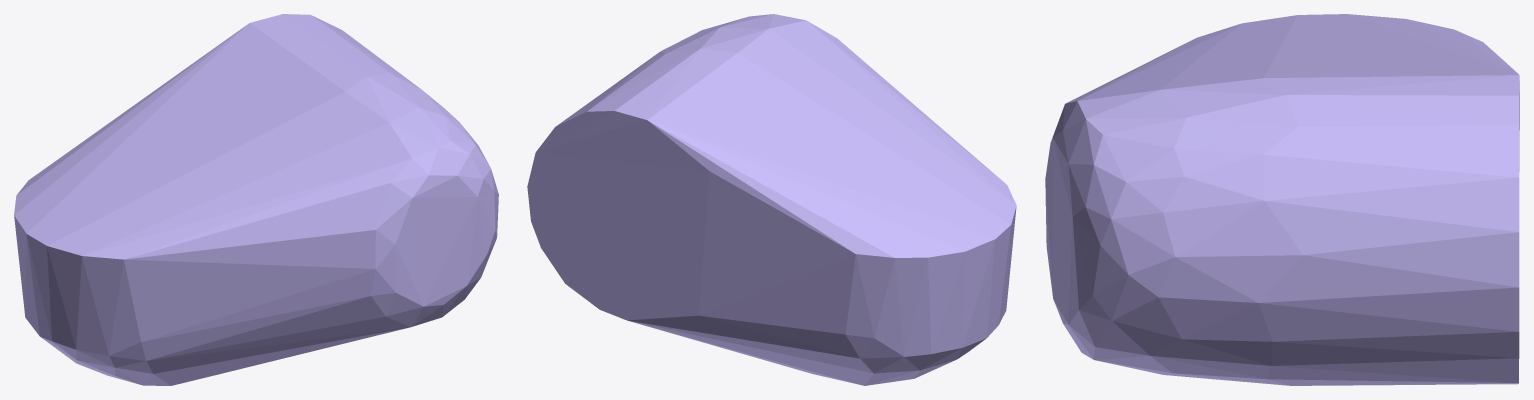
File: dualpanda_Panda_leftArm_link6_respondable_coll_1.dae
3 views of the same model, side by side, from view 1: azimuth 30°, elevation 25°; view 2: azimuth 150°, elevation 25°; view 3: azimuth 270°, elevation 25° (orthographic). The views are drawn at different scales.
Parts seen in each view (by area): view 1: node; view 2: node; view 3: node.
Part boxes in pixels (x1=…): node: x1=14, y1=14, x2=498, y2=385; node: x1=527, y1=14, x2=1016, y2=385; node: x1=1045, y1=14, x2=1519, y2=385.
Bounding box in the file's own units: 0.1809 × 0.1062 × 0.1331.
